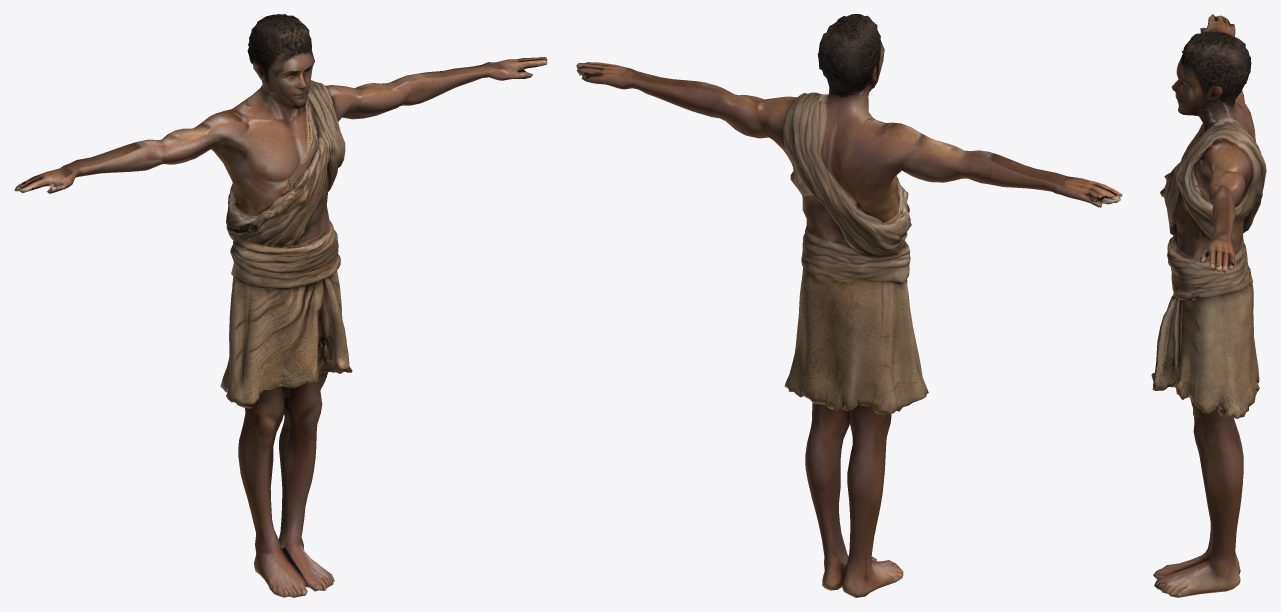
The model's file is Meshy_AI_Ancient_Pose_0319014838_texture.glb.
The picture shows the model from 3 angles, left to right: view 1: azimuth 30°, elevation 25°; view 2: azimuth 150°, elevation 25°; view 3: azimuth 270°, elevation 25°; orthographic projection. The views are drawn at different scales.
Size of the model in its own units: 1.99 by 1.99 by 0.3784.
Materials: 1 (1 with a texture image).
